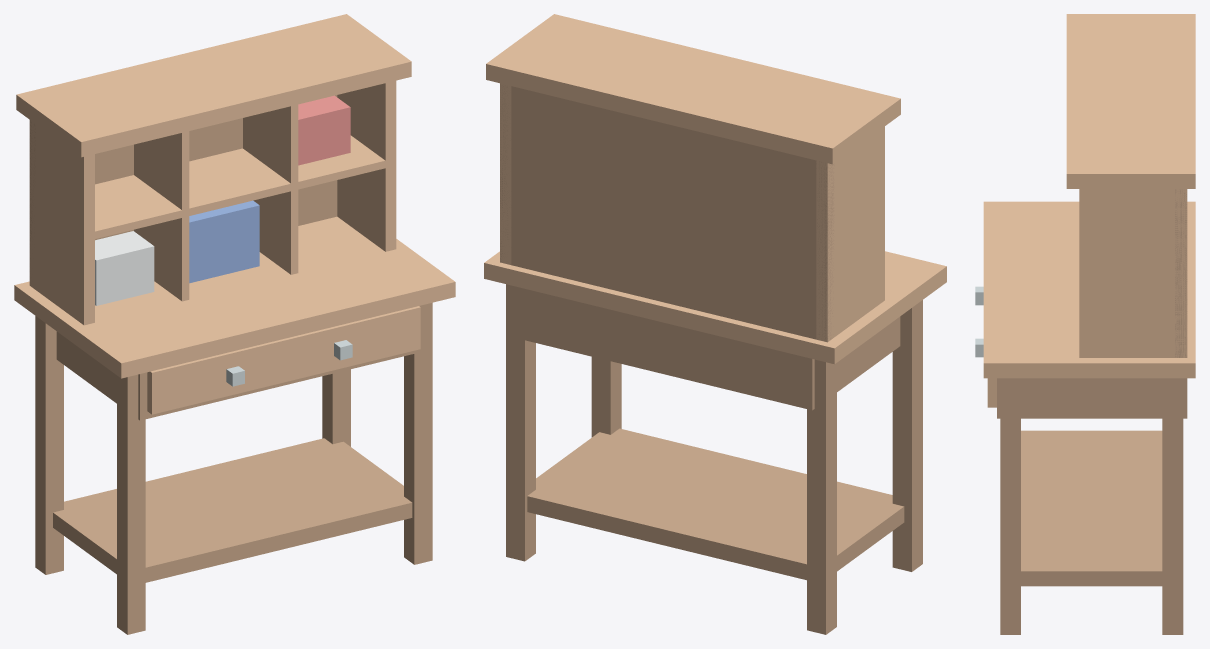
Rendered from deskSecretary.glb.
The picture shows the model from 3 angles, left to right: view 1: azimuth 30°, elevation 25°; view 2: azimuth 150°, elevation 25°; view 3: azimuth 270°, elevation 25°; orthographic projection. The views are drawn at different scales.
Parts seen in each view (by area): view 1: deskSecretary; view 2: deskSecretary; view 3: deskSecretary.
Boxes of the visible parts, box(x1,y1,x2,y2) form: deskSecretary: box(14, 14, 455, 634); deskSecretary: box(484, 14, 946, 634); deskSecretary: box(975, 14, 1195, 634).
Bounding box in the file's own units: 0.46 × 0.62 × 0.265.
